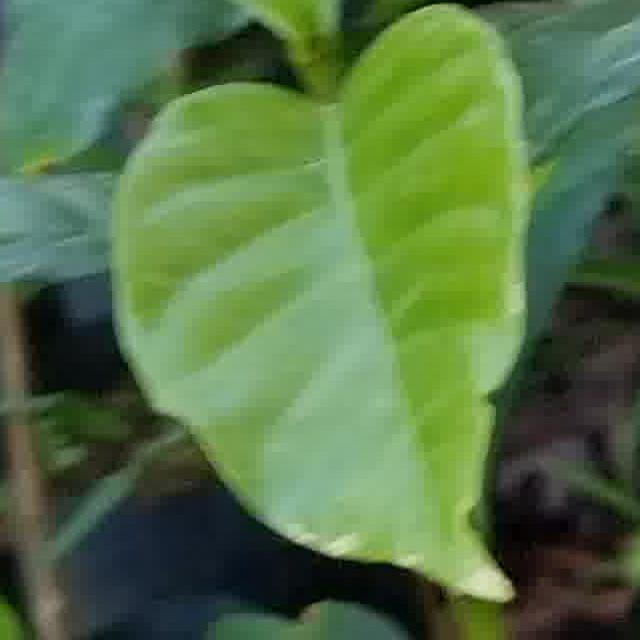leaves: (102, 0, 535, 602)
